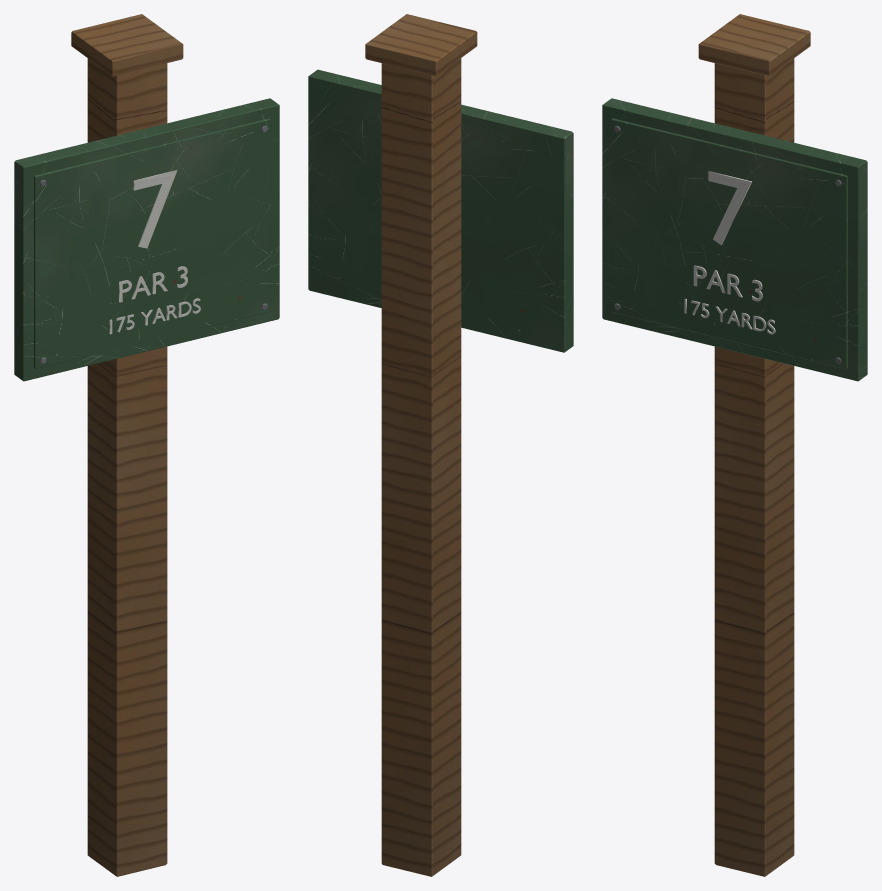
The model's file is sign_h7.glb.
3 views of the same model, side by side, from view 1: azimuth 30°, elevation 25°; view 2: azimuth 150°, elevation 25°; view 3: azimuth 330°, elevation 25° (orthographic).
Parts seen in each view (by area): view 1: X_sign_h7, X_sign_h7_No, X_sign_h7_Yds, X_sign_h7_Par; view 2: X_sign_h7; view 3: X_sign_h7, X_sign_h7_No, X_sign_h7_Par, X_sign_h7_Yds.
Boxes of the visible parts, box(x1,y1,x2,y2) form: X_sign_h7: box(14, 14, 279, 876); X_sign_h7_No: box(133, 170, 177, 248); X_sign_h7_Yds: box(109, 298, 200, 334); X_sign_h7_Par: box(119, 266, 187, 302); X_sign_h7: box(308, 14, 573, 876); X_sign_h7: box(602, 14, 867, 876); X_sign_h7_No: box(708, 171, 751, 245); X_sign_h7_Par: box(693, 265, 762, 301); X_sign_h7_Yds: box(684, 298, 775, 334).
Bounding box in the file's own units: 0.5 × 1.53 × 0.162.
Materials: 4 (4 with a texture image).
